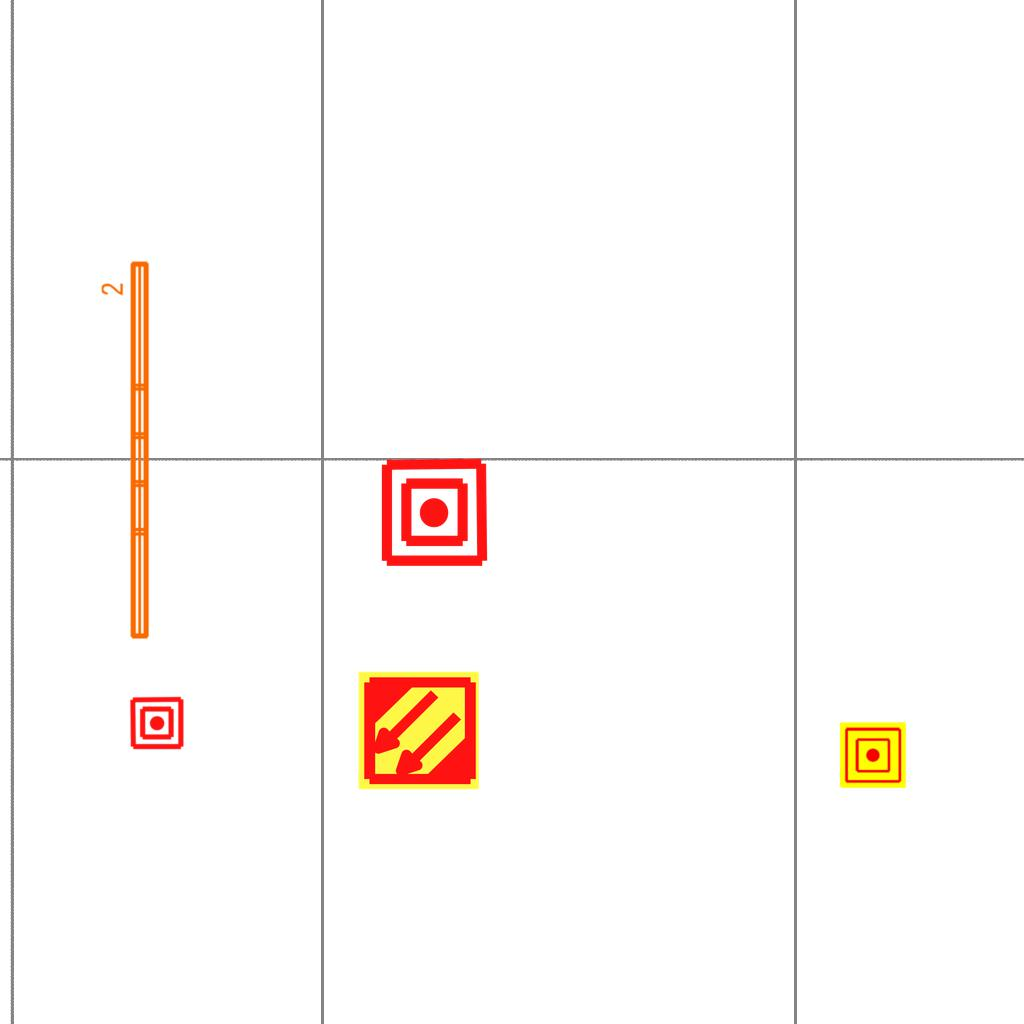ASR_Ansaugrauchmelder: (356, 668, 481, 793)
Ambulanz_Pendelleuchte_LED: (99, 257, 155, 644)
NAM-Nichtautomatischer_Melder: (378, 456, 491, 569), (840, 722, 906, 788), (129, 695, 185, 751)
